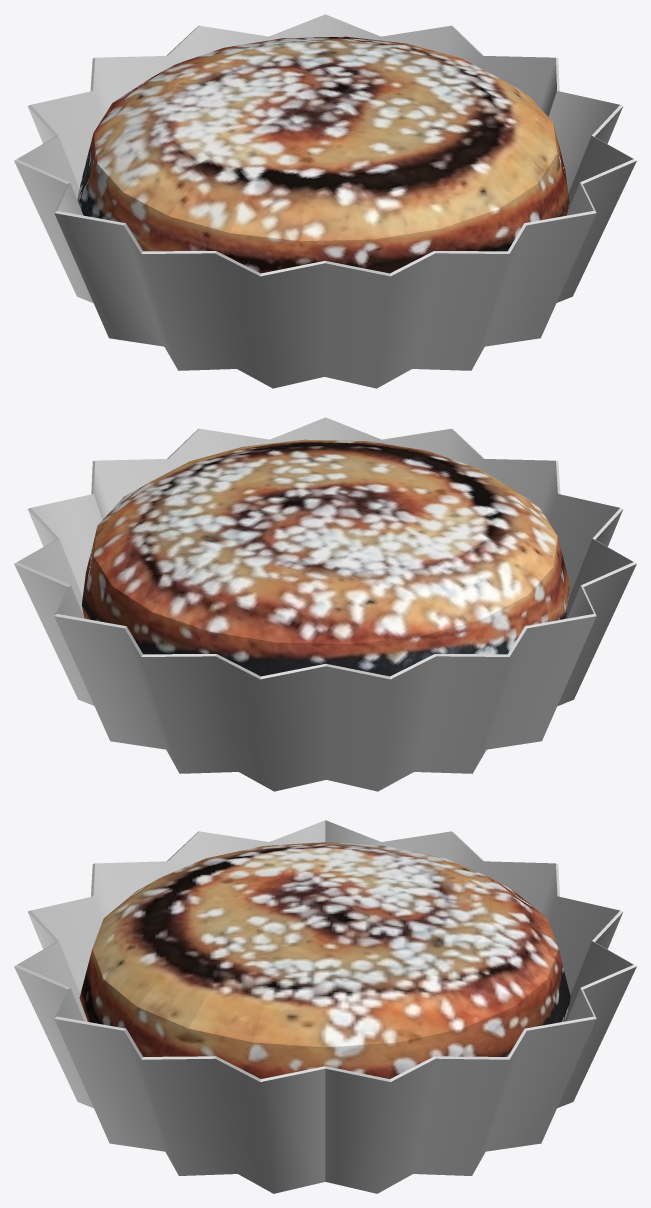
The model's file is bulle.fbx.
3 views of the same model, one above another, from view 1: azimuth 30°, elevation 25°; view 2: azimuth 150°, elevation 25°; view 3: azimuth 270°, elevation 25° (orthographic).
Visible parts, largest first — view 1: bulle, papper; view 2: bulle, papper; view 3: bulle, papper.
Boxes of the visible parts, left/top/right/bottom form: bulle: left=77, top=36, right=569, bottom=273; papper: left=14, top=14, right=636, bottom=388; bulle: left=82, top=439, right=570, bottom=676; papper: left=14, top=417, right=636, bottom=791; bulle: left=79, top=842, right=570, bottom=1078; papper: left=14, top=820, right=636, bottom=1193.
Size of the model in its own units: 0.0205 by 0.00688 by 0.0206.
